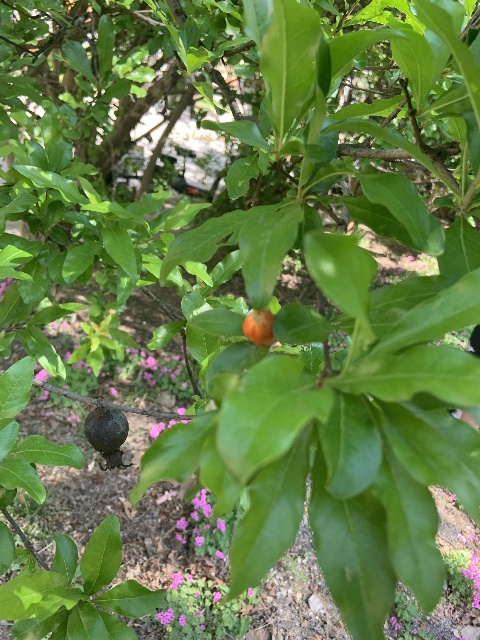bud: (242, 308, 278, 347)
